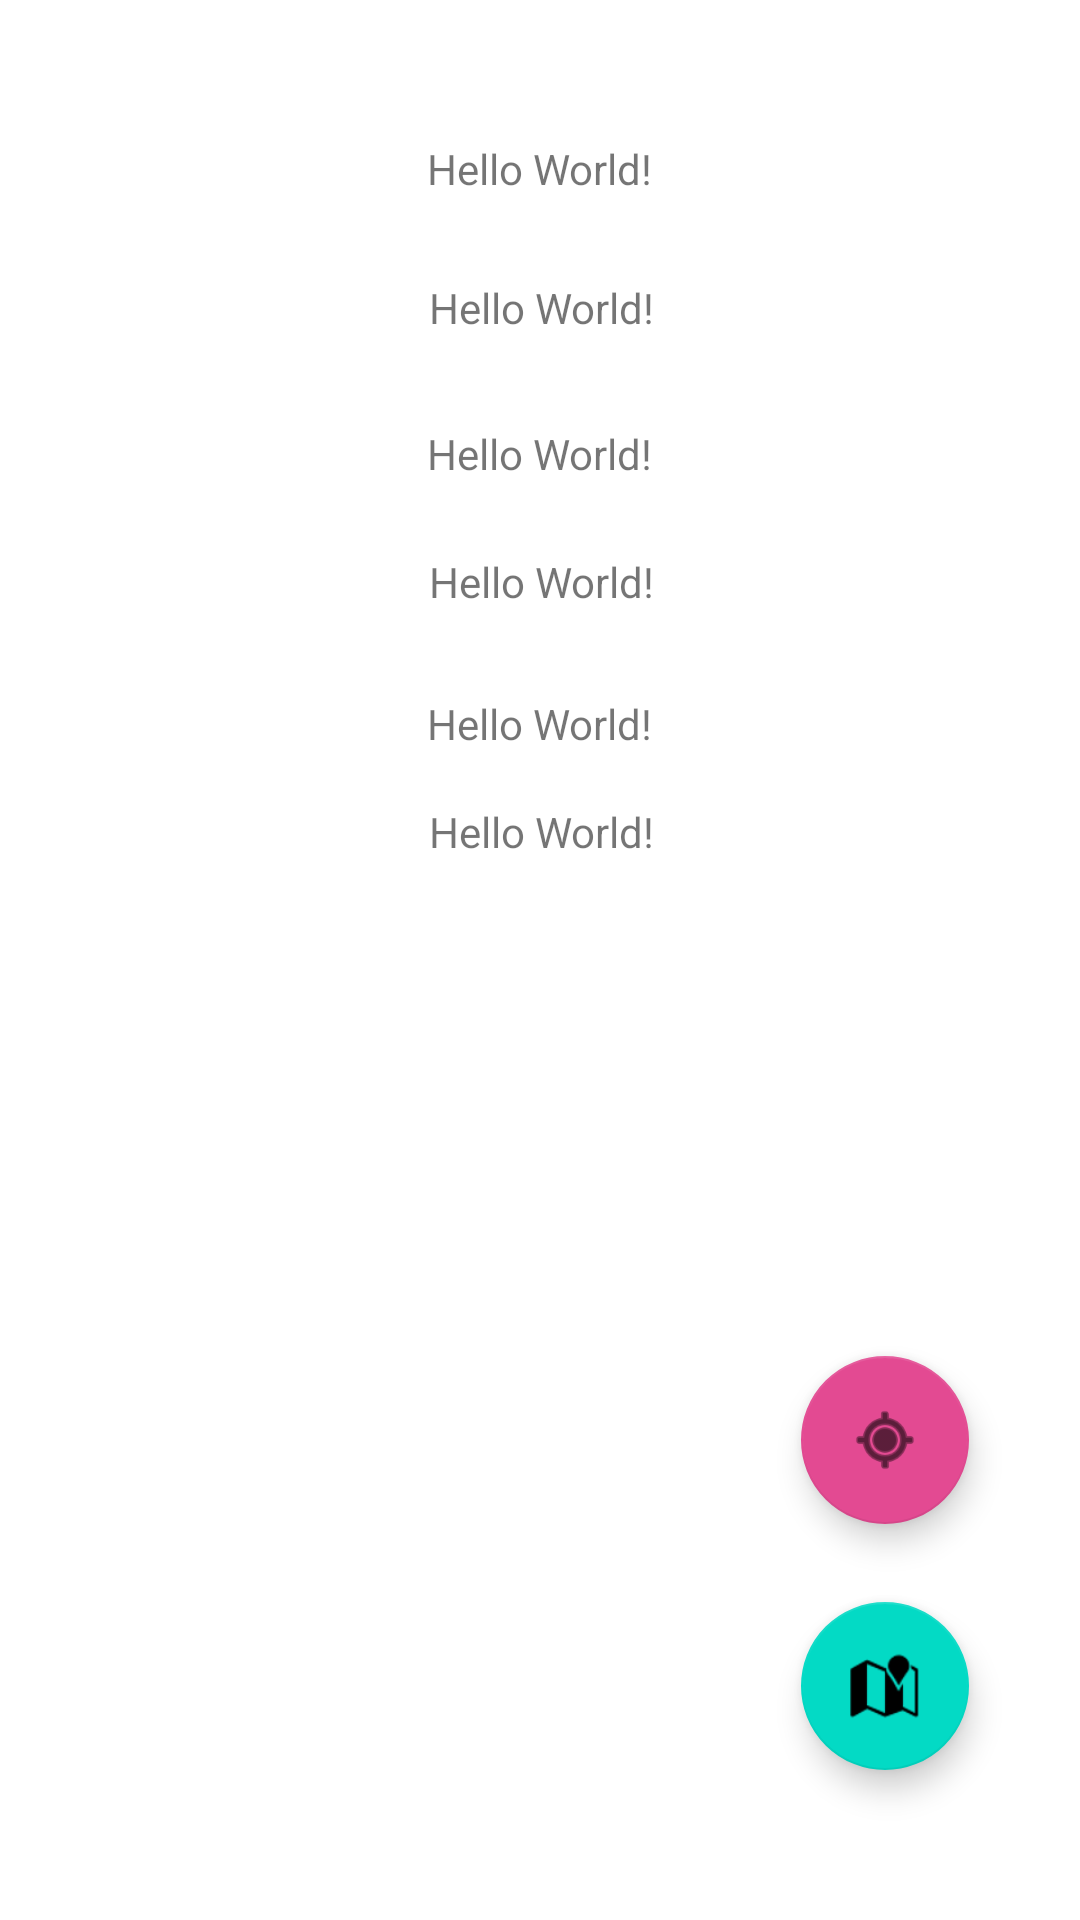

Point at icon controls on the screen. Image size 1080 × 1920, points as (x,y).
Mostrar Localizacion: (885,1440)
